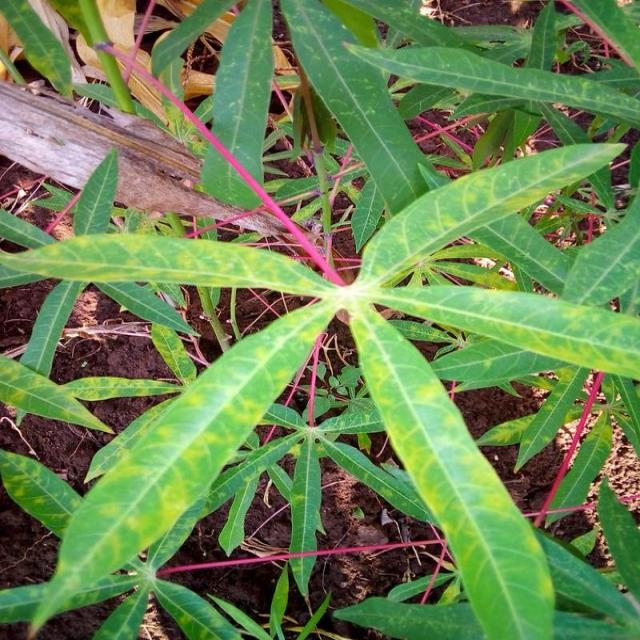cassava leaf: (2, 1, 640, 638), (15, 292, 339, 636), (348, 300, 558, 638), (358, 139, 630, 289)
